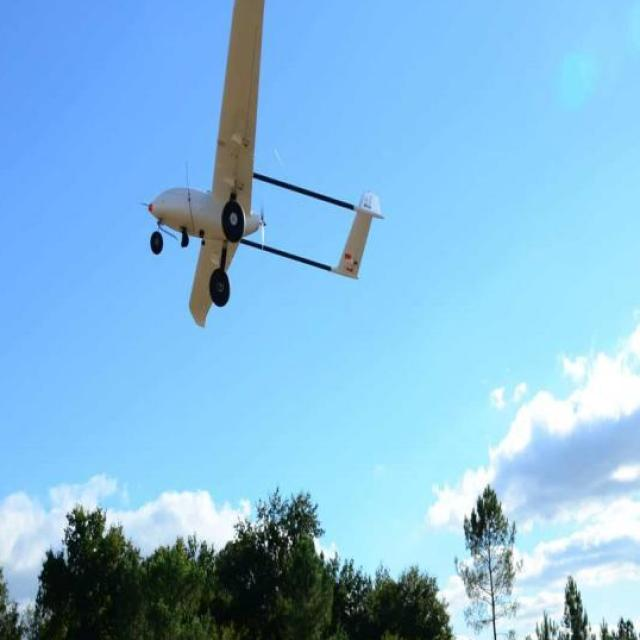plane: (140, 0, 386, 327)
